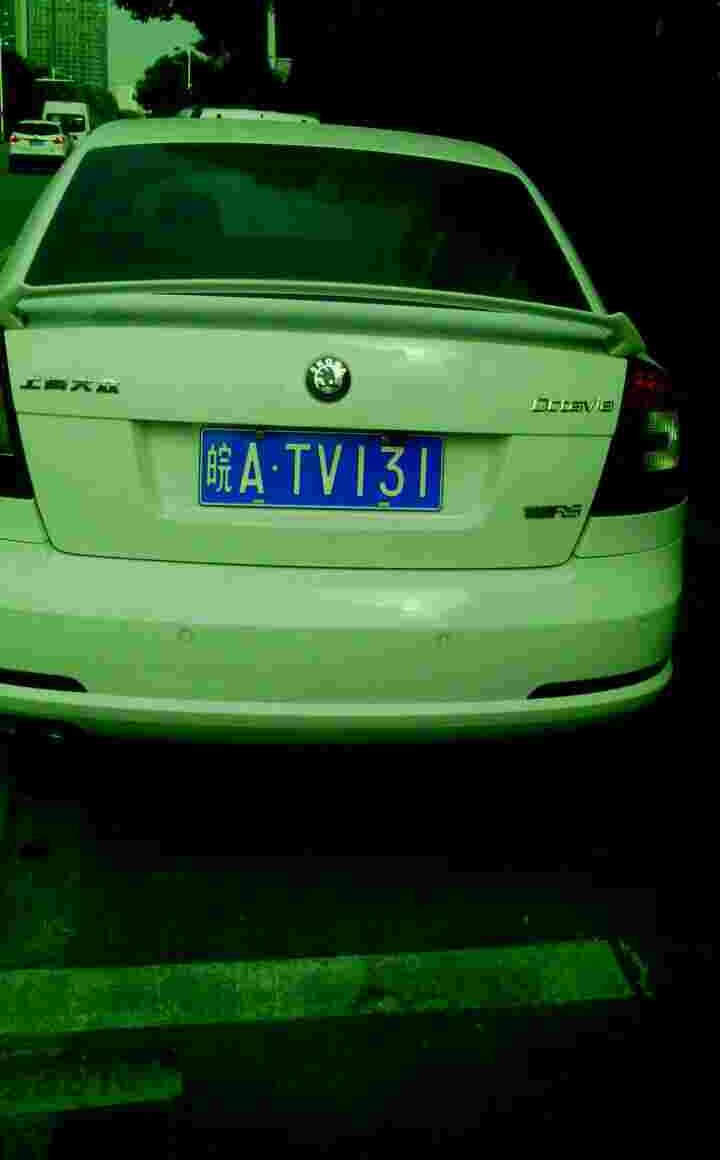plate: (199, 425, 452, 514)
